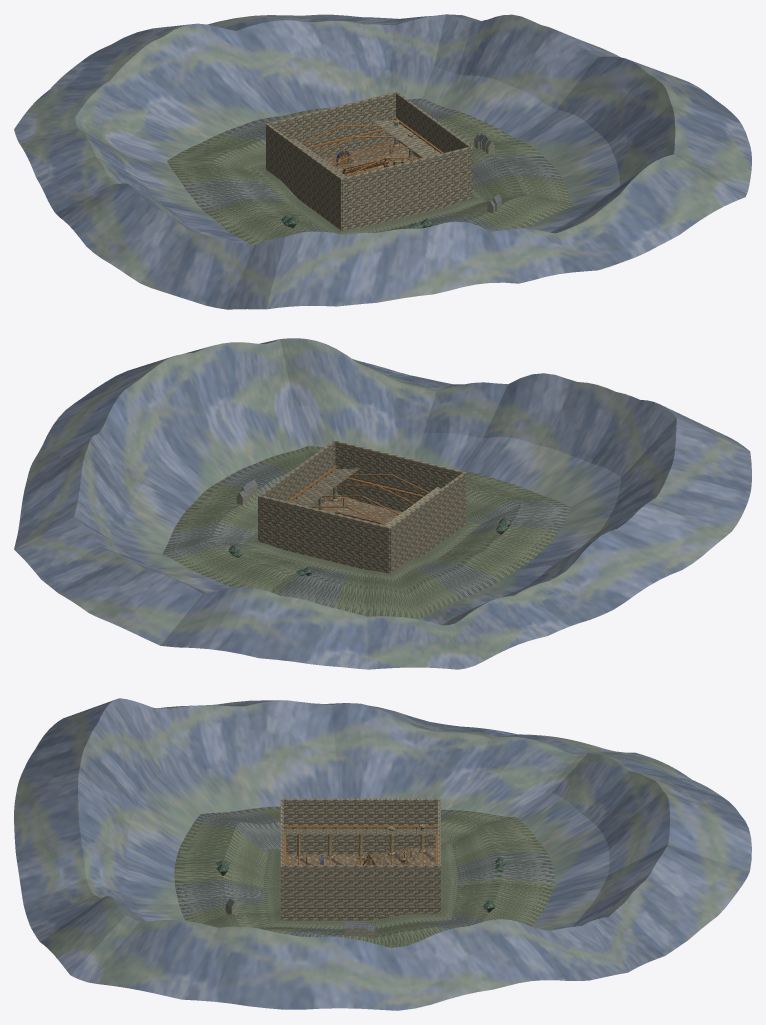
Rendered from WeighHouse.fbx.
3 views of the same model, one above another, from view 1: azimuth 30°, elevation 25°; view 2: azimuth 150°, elevation 25°; view 3: azimuth 270°, elevation 25° (orthographic). The views are drawn at different scales.
Parts seen in each view (by area): view 1: Surroundings, C_Solids, Rim, Terrain, Set; view 2: Surroundings, C_Solids, Rim, Terrain; view 3: Surroundings, C_Solids, Rim, Terrain, Set.
Boxes of the visible parts, x1=… form: Surroundings: x1=14, y1=14, x2=751, y2=309; C_Solids: x1=266, y1=92, x2=472, y2=230; Rim: x1=291, y1=118, x2=443, y2=177; Terrain: x1=323, y1=139, x2=418, y2=175; Set: x1=336, y1=119, x2=413, y2=175; Surroundings: x1=14, y1=338, x2=751, y2=669; C_Solids: x1=258, y1=440, x2=466, y2=573; Rim: x1=287, y1=466, x2=440, y2=526; Terrain: x1=316, y1=494, x2=402, y2=524; Surroundings: x1=14, y1=698, x2=751, y2=1010; C_Solids: x1=280, y1=798, x2=440, y2=920; Rim: x1=283, y1=825, x2=437, y2=865; Terrain: x1=286, y1=848, x2=435, y2=865; Set: x1=295, y1=824, x2=425, y2=865.
Bounding box in the file's own units: 19415 × 2845 × 19120.
